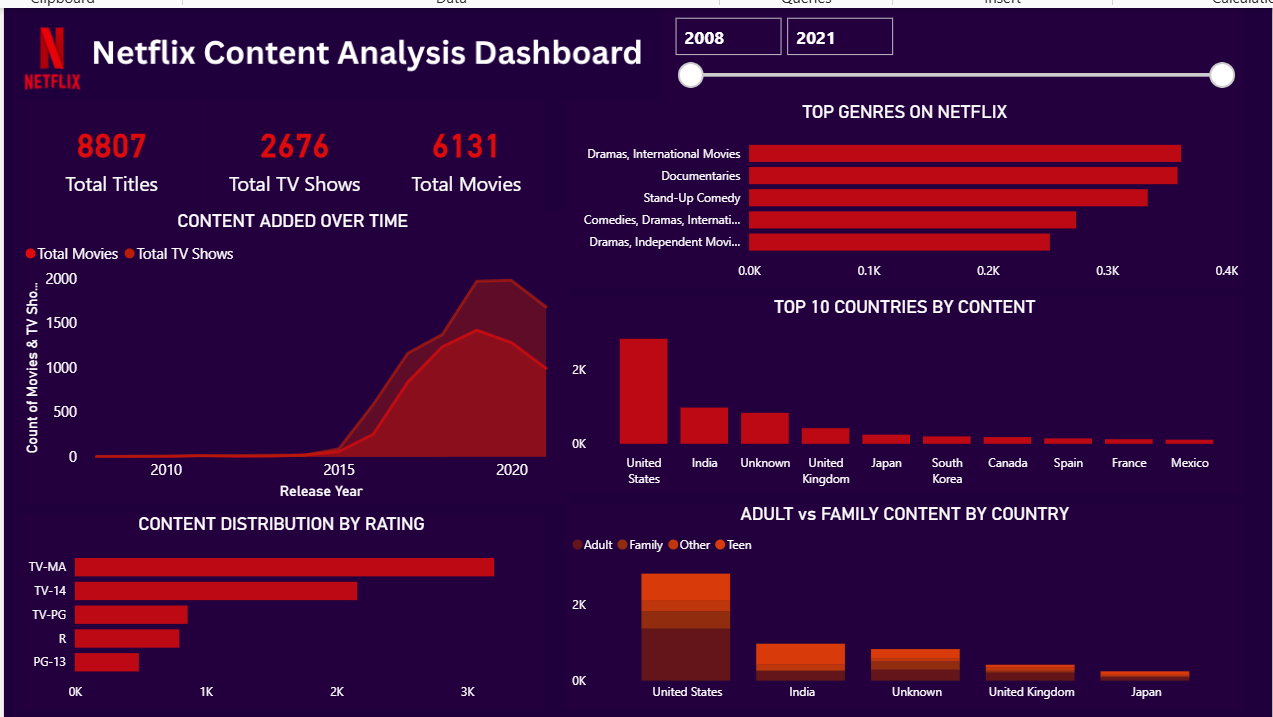

Layout of this report page (visuals, bound fields, positions):
{"tool":"powerbi","page":{"name":"Page 2","canvas":[1280,720],"ordinal":1},"visuals":[{"type":"card","fields":{"Values":["Sheet1.Total Titles"]},"box":[15.2,93.9,186.4,110.6],"z":0},{"type":"card","fields":{"Values":["Sheet1.Total TV Shows"]},"box":[200,93.9,186.4,110.6],"z":1000},{"type":"card","fields":{"Values":["Sheet1.Total Movies"]},"box":[387.9,93.9,157.6,110.6],"z":2000},{"type":"lineChart","title":"CONTENT ADDED OVER TIME","fields":{"Category":["Sheet1.date_added.Variation.Date Hierarchy.Year"],"Y":["Sheet1.Total Movies"],"Y2":["Sheet1.Total TV Shows"]},"box":[15.1,204.4,552.7,295.3],"z":3000},{"type":"clusteredBarChart","title":"CONTENT DISTRIBUTION BY RATING","fields":{"Category":["Sheet1.rating"],"Y":["CountNonNull(Sheet1.show_id)"]},"box":[15.1,510.3,530,198.4],"z":4000},{"type":"columnChart","title":"TOP 10 COUNTRIES BY CONTENT","fields":{"Category":["Sheet1.country"],"Y":["CountNonNull(Sheet1.show_id)"]},"box":[567.8,290.7,682.9,199.9],"z":5000},{"type":"columnChart","title":"ADULT vs FAMILY CONTENT BY COUNTRY","fields":{"Category":["Sheet1.country"],"Series":["Sheet1.Content Category"],"Y":["CountNonNull(Sheet1.show_id)"]},"box":[567.8,499.7,682.9,209],"z":6000},{"type":"clusteredBarChart","title":"TOP GENRES ON NETFLIX","fields":{"Category":["Sheet1.listed_in"],"Y":["CountNonNull(Sheet1.show_id)"]},"box":[567.8,93.9,682.9,189.3],"z":7000},{"type":"slicer","fields":{"Values":["Sheet1.date_added.Variation.Date Hierarchy.Year"]},"box":[664.7,0,586,93.9],"z":8000}]}

Visuals, with their boxes on the page's 1280x720 design canvas (x1, y1, x2, y2). These are canvas units, not pixel positions in the 1273x717 screenshot, which may show the page scaled, cropped or inside an application window:
card - Sheet1.Total Titles: 15 94 202 204
card - Sheet1.Total TV Shows: 200 94 386 204
card - Sheet1.Total Movies: 388 94 546 204
"CONTENT ADDED OVER TIME" lineChart: 15 204 568 500
"CONTENT DISTRIBUTION BY RATING" clusteredBarChart: 15 510 545 709
"TOP 10 COUNTRIES BY CONTENT" columnChart: 568 291 1251 491
"ADULT vs FAMILY CONTENT BY COUNTRY" columnChart: 568 500 1251 709
"TOP GENRES ON NETFLIX" clusteredBarChart: 568 94 1251 283
slicer - Sheet1.date_added.Variation.Date Hierarchy.Year: 665 0 1251 94
